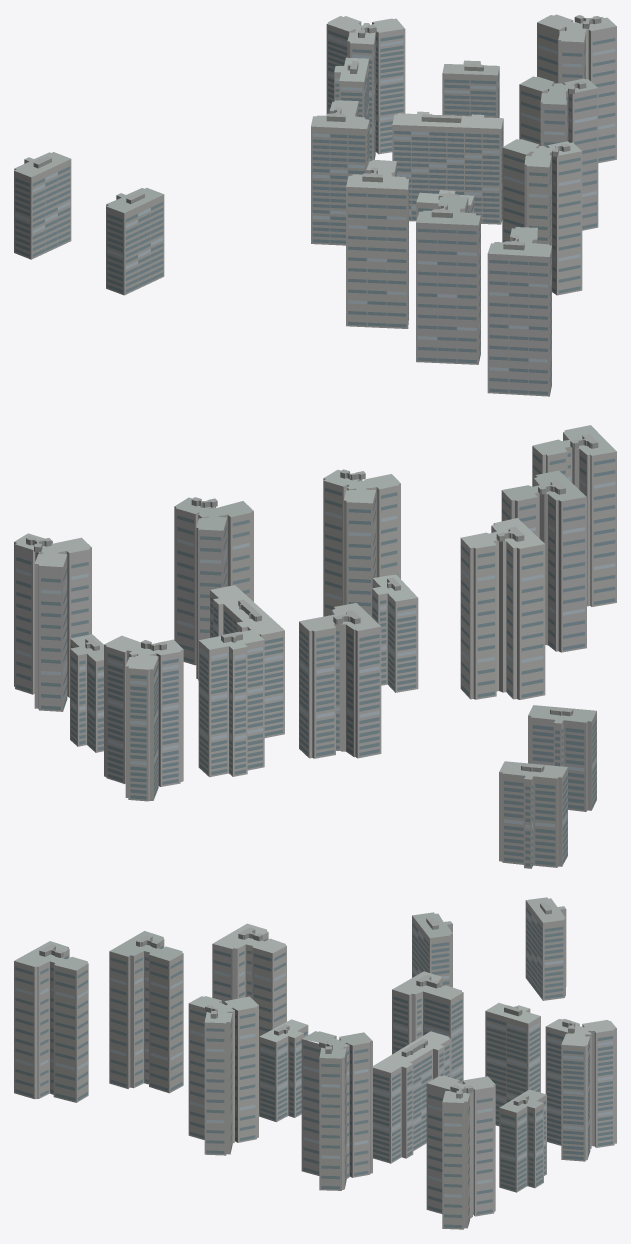
Rendered from apt-a12127006.glb.
3 views of the same model, one above another, from view 1: azimuth 30°, elevation 25°; view 2: azimuth 150°, elevation 25°; view 3: azimuth 270°, elevation 25° (orthographic). The views are drawn at different scales.
Visible parts, largest first — view 1: apt-a12127006; view 2: apt-a12127006; view 3: apt-a12127006.
Part boxes in pixels (x1,y1,x2,y2): apt-a12127006: (14,14,616,396); apt-a12127006: (14,425,616,868); apt-a12127006: (14,897,616,1229).
Bounding box in the file's own units: 287 × 72 × 288.
